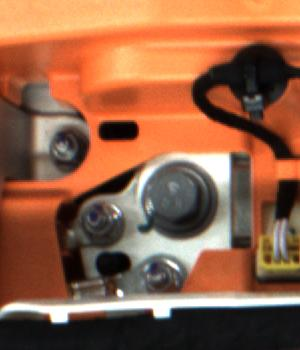nut_b: (142, 159, 217, 238)
screw_s: (40, 127, 82, 165), (140, 259, 182, 293), (82, 204, 120, 239)
